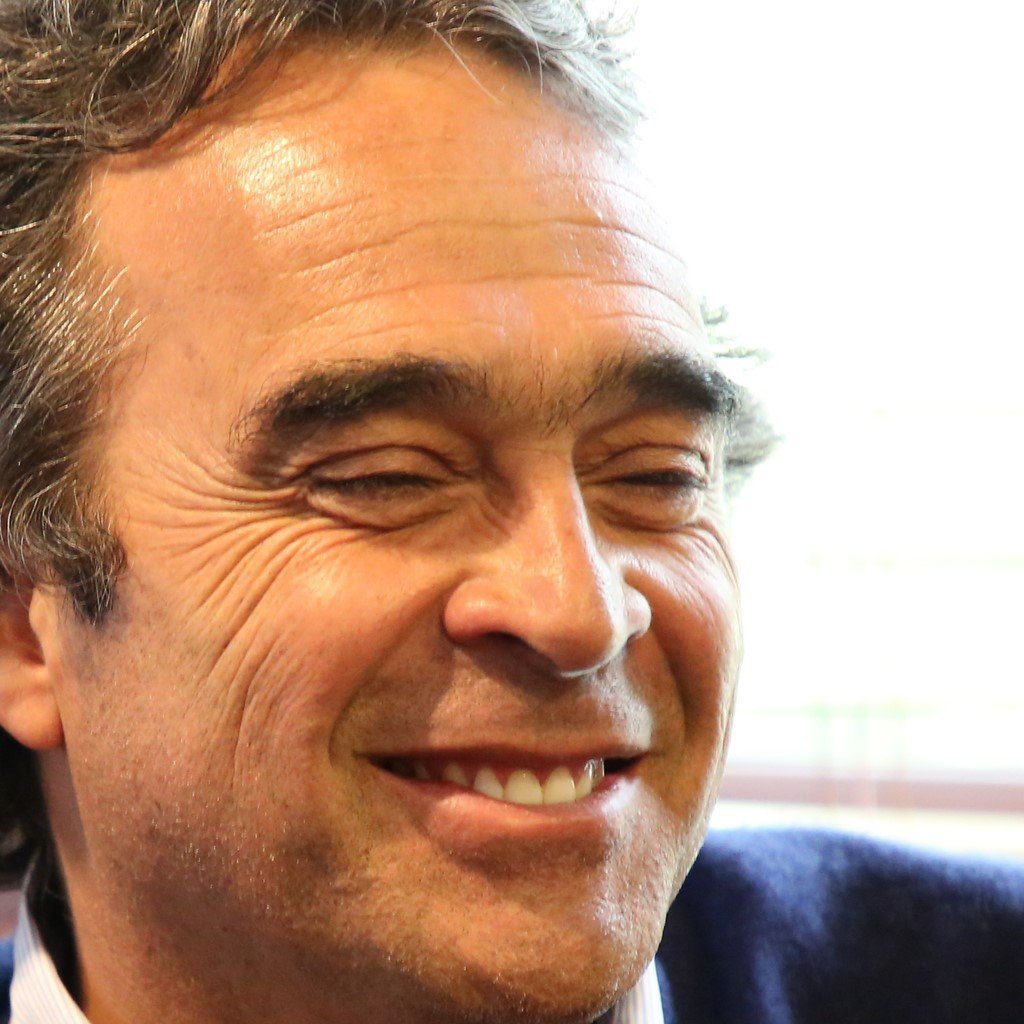sin_mascara: (90, 82, 741, 1016)
